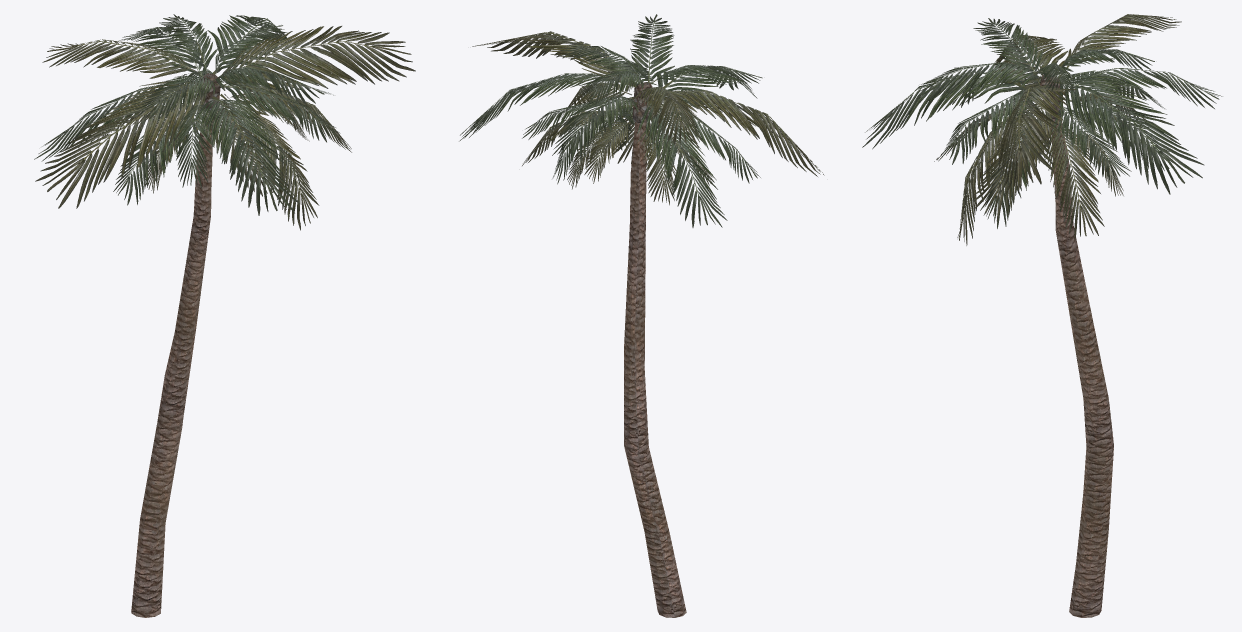
The model's file is palm.glb.
3 renders of one model, left to right at view 1: azimuth 30°, elevation 25°; view 2: azimuth 150°, elevation 25°; view 3: azimuth 270°, elevation 25°, orthographic. The views are drawn at different scales.
Visible parts, largest first — view 1: Palm Tree By Hamza_002; view 2: Palm Tree By Hamza_002; view 3: Palm Tree By Hamza_002.
Part boxes in pixels (x1,y1,x2,y2): Palm Tree By Hamza_002: (34, 14, 415, 617); Palm Tree By Hamza_002: (459, 14, 824, 617); Palm Tree By Hamza_002: (862, 14, 1222, 617).
Size of the model in its own units: 7.28 by 10.28 by 5.81.
Materials: 1 (1 with a texture image).
